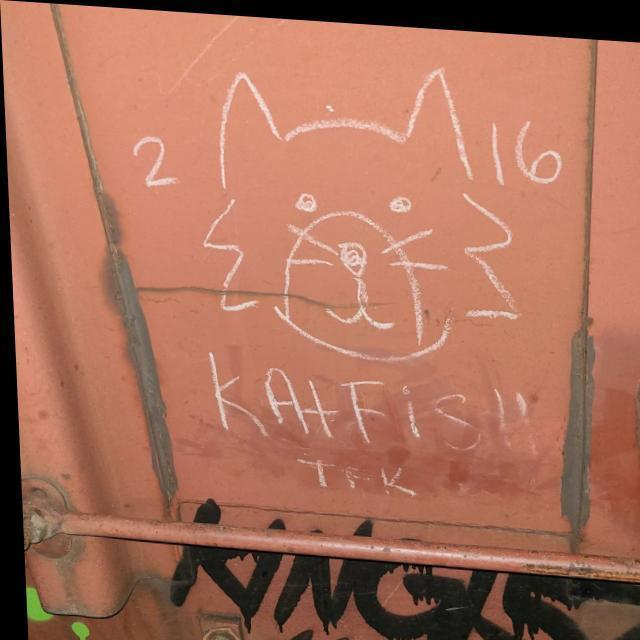nonspitting: (130, 70, 562, 499), (171, 500, 640, 639)
